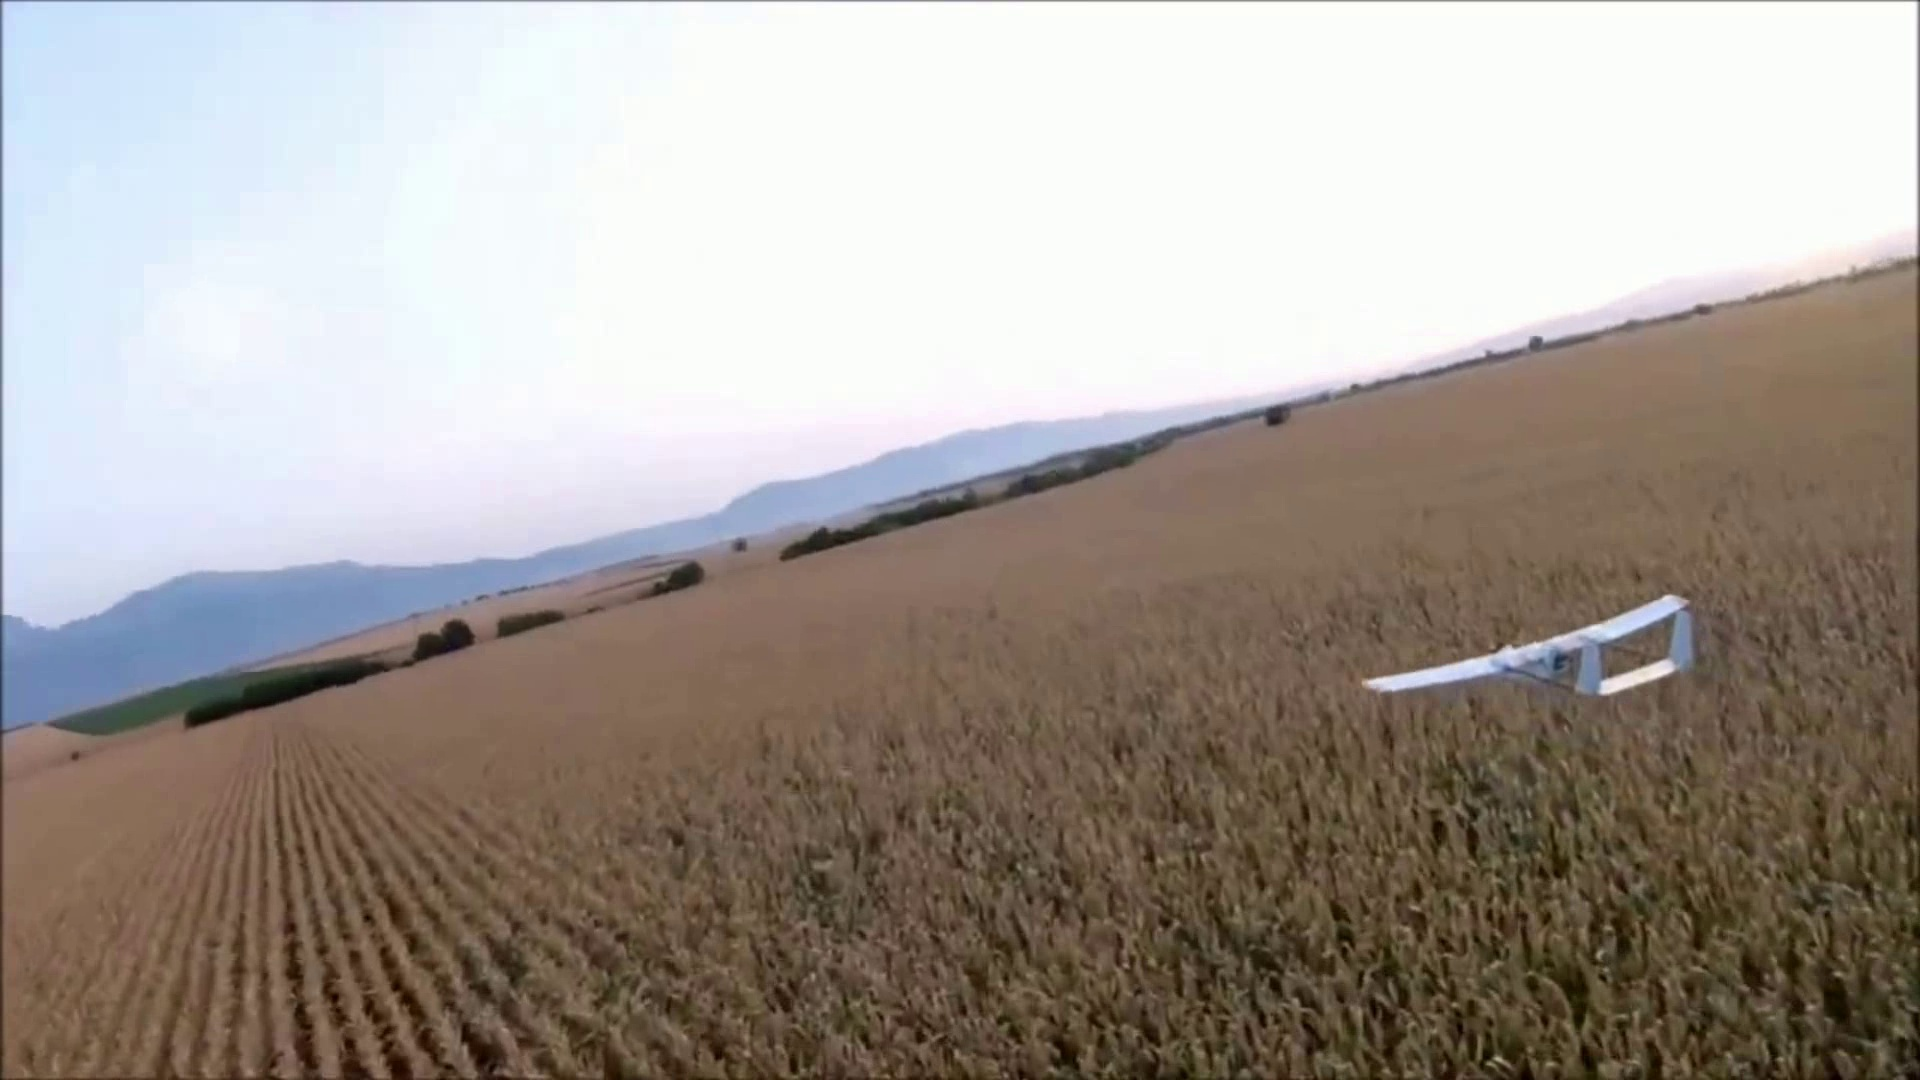airplane: (7, 260, 1891, 770), (1361, 593, 1697, 705)
